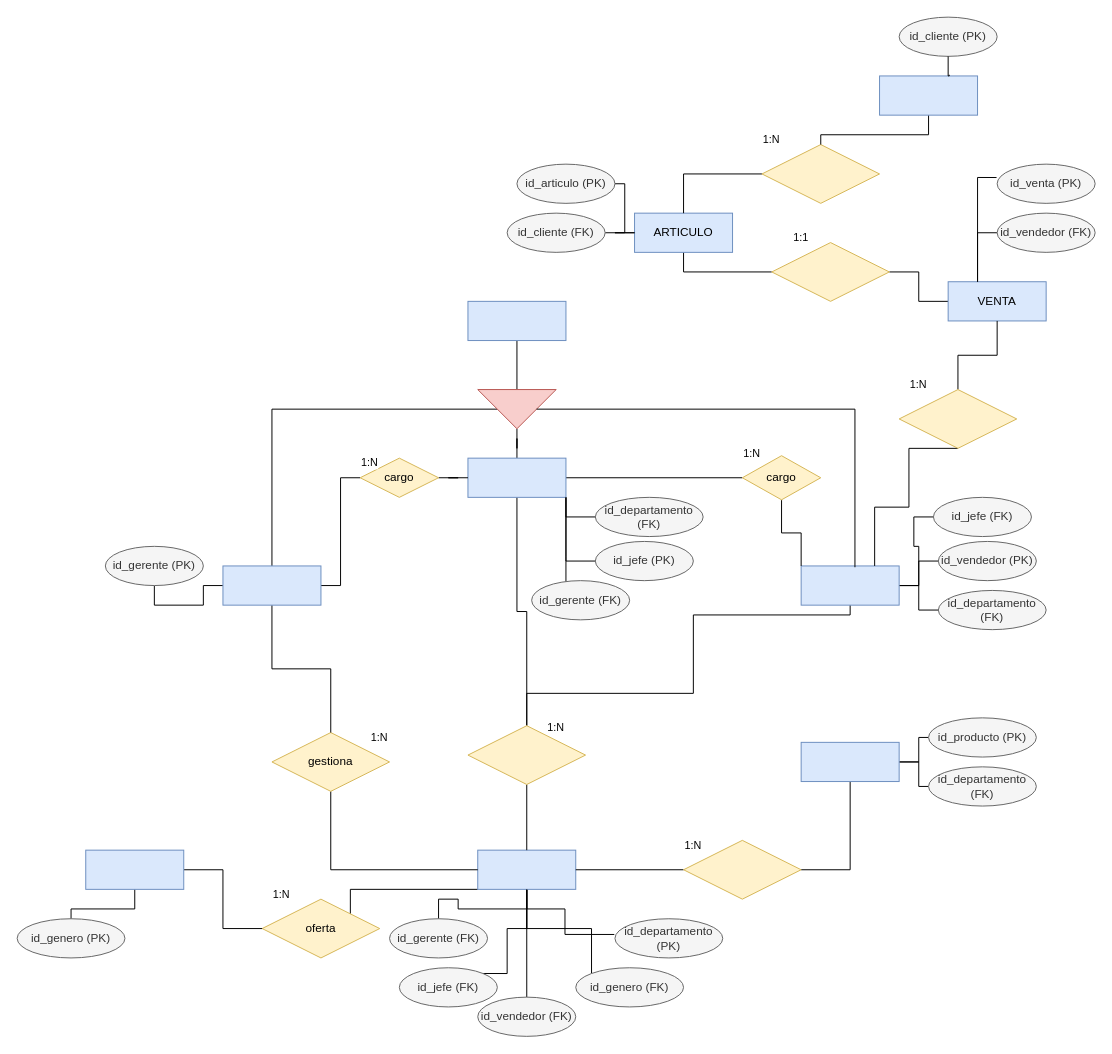
Some shapes in this 1112 by 1054 pixel diagram are drawn without their labels. The box of each missing label's shape, as (x1, y1, x2, y2) in pixels:
CLIENTE: (879, 75, 978, 115)
compra: (761, 144, 880, 203)
DEPARTAMENTO: (477, 849, 576, 889)
GERENTE: (222, 565, 321, 605)
GÉNERO: (85, 849, 184, 889)
JEFE: (467, 457, 566, 497)
pertenece: (467, 725, 586, 784)
PRODUCTO: (800, 741, 899, 782)
realiza: (898, 389, 1017, 448)
tiene: (683, 839, 801, 899)
TRABAJADOR: (467, 300, 566, 341)
VENDEDOR: (800, 565, 899, 605)
venta-articulo: (771, 242, 889, 301)
